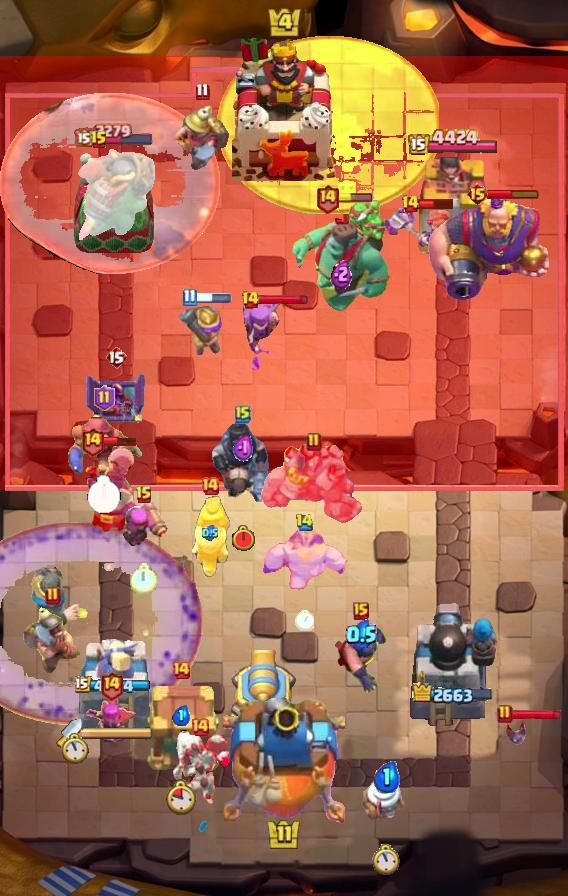bandit: (21, 602, 85, 676), (173, 100, 231, 170)
bar: (77, 637, 151, 731)
barbarian-barrel: (504, 716, 528, 748)
bomb: (142, 685, 220, 773)
bomb-tower: (177, 299, 229, 359)
cannoneer-tower: (261, 441, 367, 525)
electro-spirit: (347, 618, 377, 649), (372, 761, 399, 793), (332, 259, 353, 290), (233, 433, 254, 463), (172, 705, 190, 727), (202, 525, 218, 541)
elite-barbarian: (189, 496, 231, 578)
elixir: (87, 474, 121, 513), (167, 779, 198, 815), (130, 563, 158, 595), (61, 733, 89, 765), (372, 844, 400, 876), (231, 524, 256, 551), (294, 609, 313, 630)
emote: (510, 707, 562, 721), (258, 293, 310, 306), (488, 188, 541, 200), (418, 198, 455, 211), (102, 437, 138, 448), (194, 293, 232, 303), (337, 193, 373, 203)
evolution-symbol: (84, 694, 138, 756)
fireball: (65, 416, 143, 476)
firecracker: (31, 566, 82, 626)
goblin-drill: (363, 772, 409, 828)
ice-spirit-evolution-symbol: (84, 371, 148, 425)
inferno-dragon: (211, 420, 275, 504)
king-tower: (223, 698, 345, 826), (232, 39, 336, 181)
king-tower-bar: (82, 726, 154, 740)
lava-hound: (289, 195, 393, 317)
lightning: (427, 196, 553, 302)
mini-pekka: (170, 728, 230, 804)
monk: (84, 446, 140, 534), (333, 620, 389, 694)
night-witch: (72, 137, 156, 251)
phoenix-egg: (0, 92, 220, 276), (217, 36, 439, 214)
queen-tower: (71, 152, 157, 256), (410, 154, 496, 256)
rage: (260, 525, 348, 593)
rascal-girl: (240, 296, 284, 374)
rocket: (0, 521, 203, 725)
royal-recruit: (227, 650, 303, 730)
selected: (407, 128, 499, 158), (413, 682, 496, 707), (73, 122, 154, 147), (74, 676, 154, 696)
tesla-evolution: (383, 203, 465, 269)
text: (316, 182, 341, 213), (80, 427, 105, 458), (99, 671, 124, 701), (466, 182, 489, 206), (94, 385, 115, 411), (105, 345, 127, 369), (400, 194, 420, 214), (200, 476, 220, 496), (171, 660, 191, 680), (190, 717, 210, 737), (241, 290, 260, 310), (294, 512, 313, 531), (90, 130, 108, 150), (135, 485, 153, 505), (235, 404, 251, 424), (306, 432, 322, 452), (45, 586, 61, 606), (497, 704, 513, 724), (353, 602, 369, 620), (195, 83, 209, 102), (183, 288, 197, 307)
tombstone: (119, 497, 169, 549)
tower-bar: (408, 599, 498, 731)
